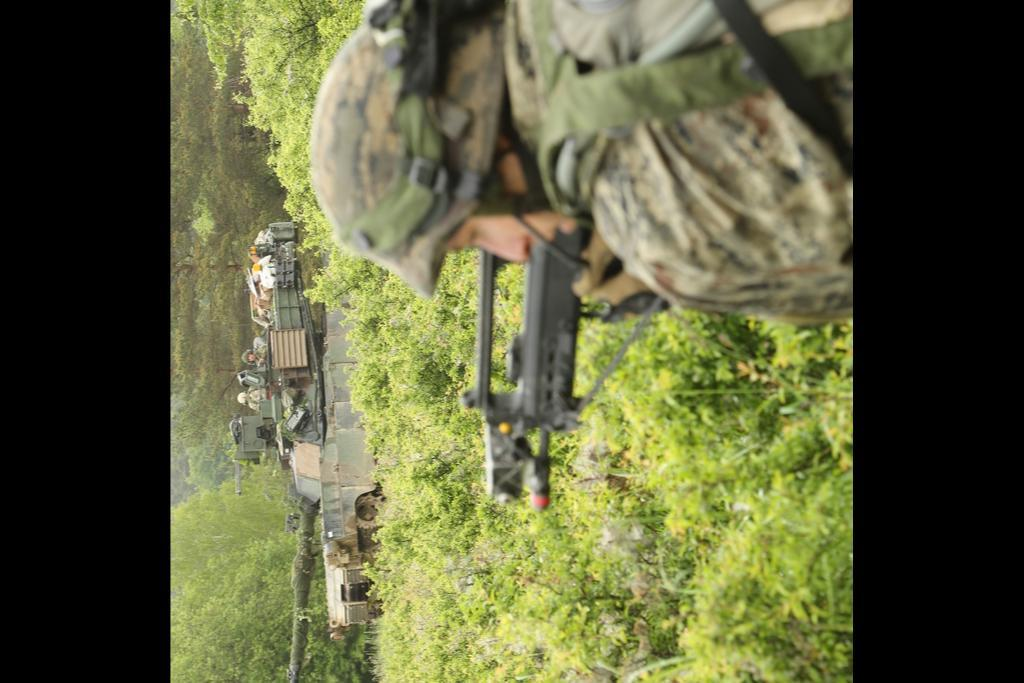gun: (470, 256, 585, 510)
